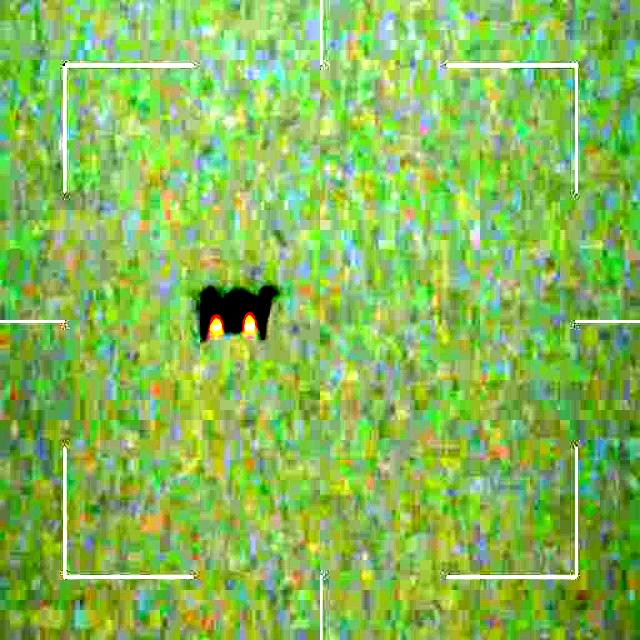bird: (195, 286, 284, 340)
